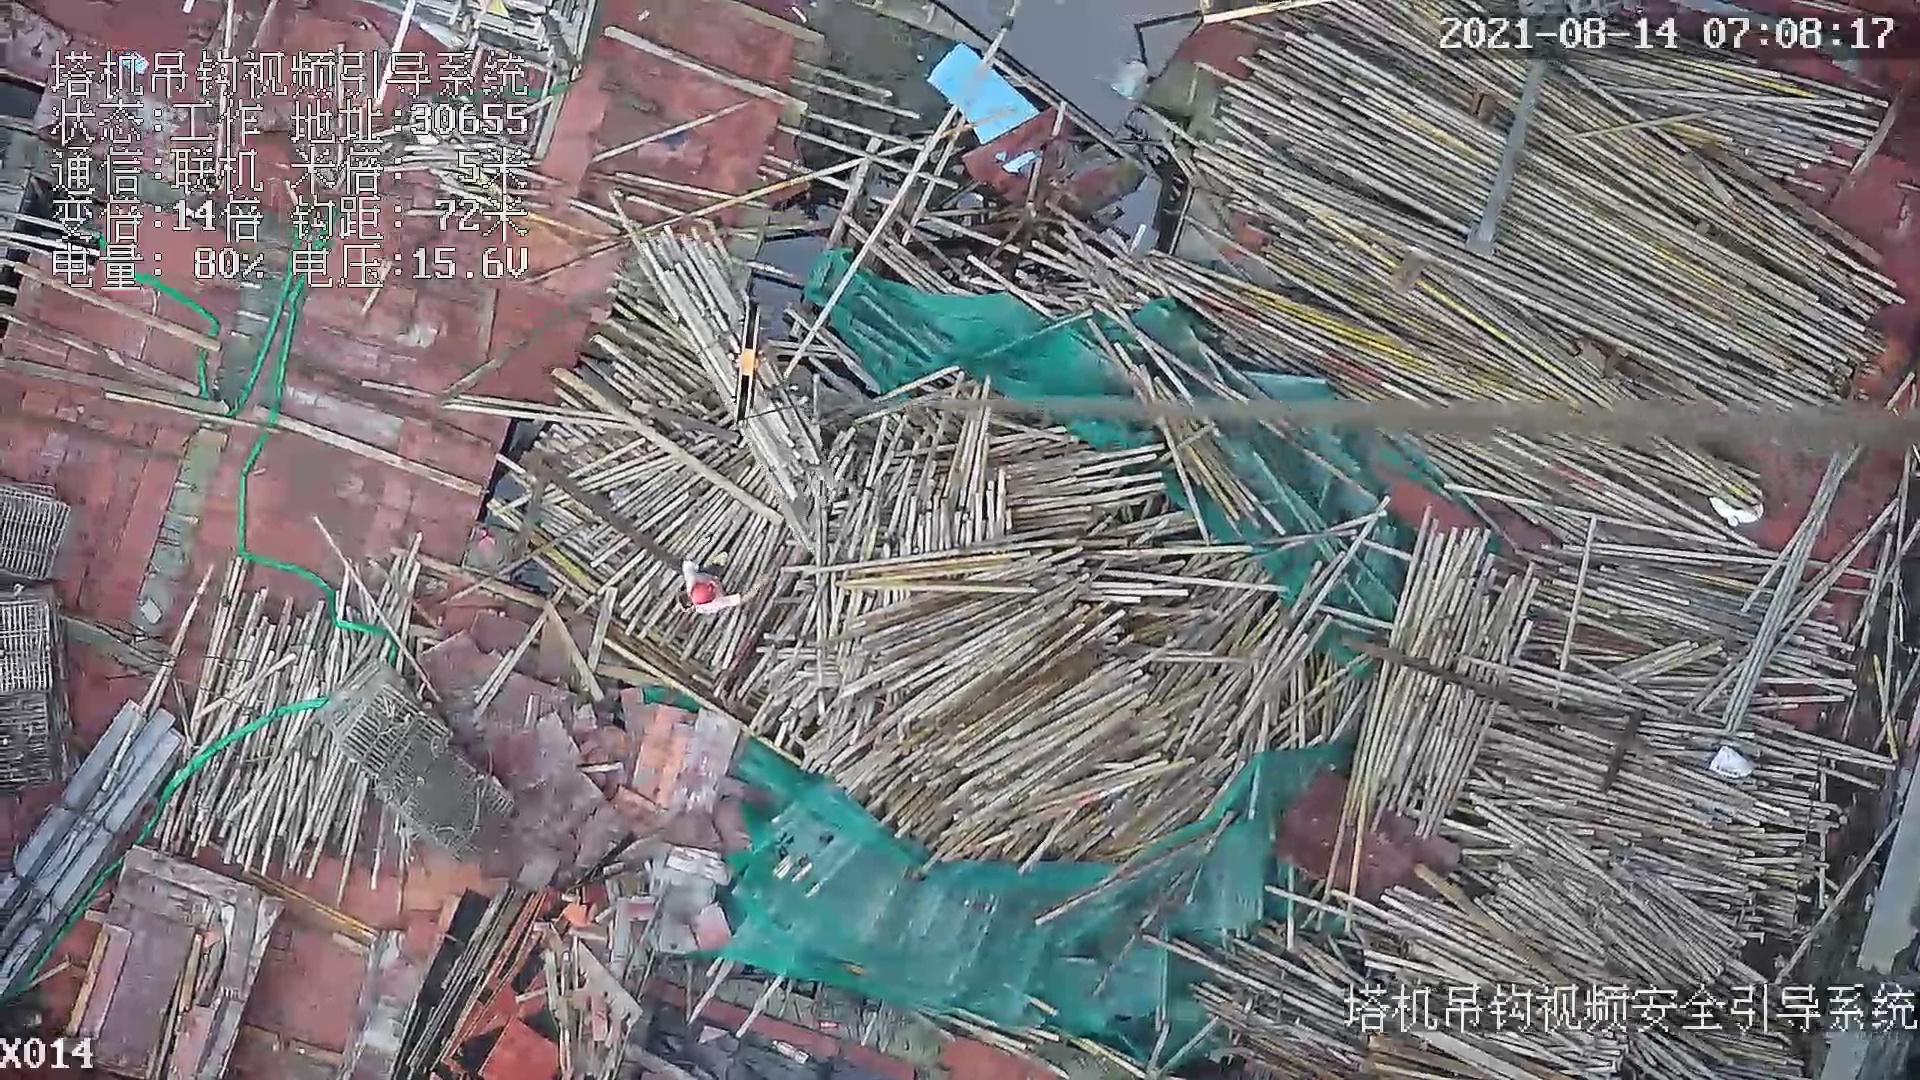helmet: (690, 581, 718, 605)
hook: (728, 292, 765, 433)
person: (677, 553, 764, 612)
